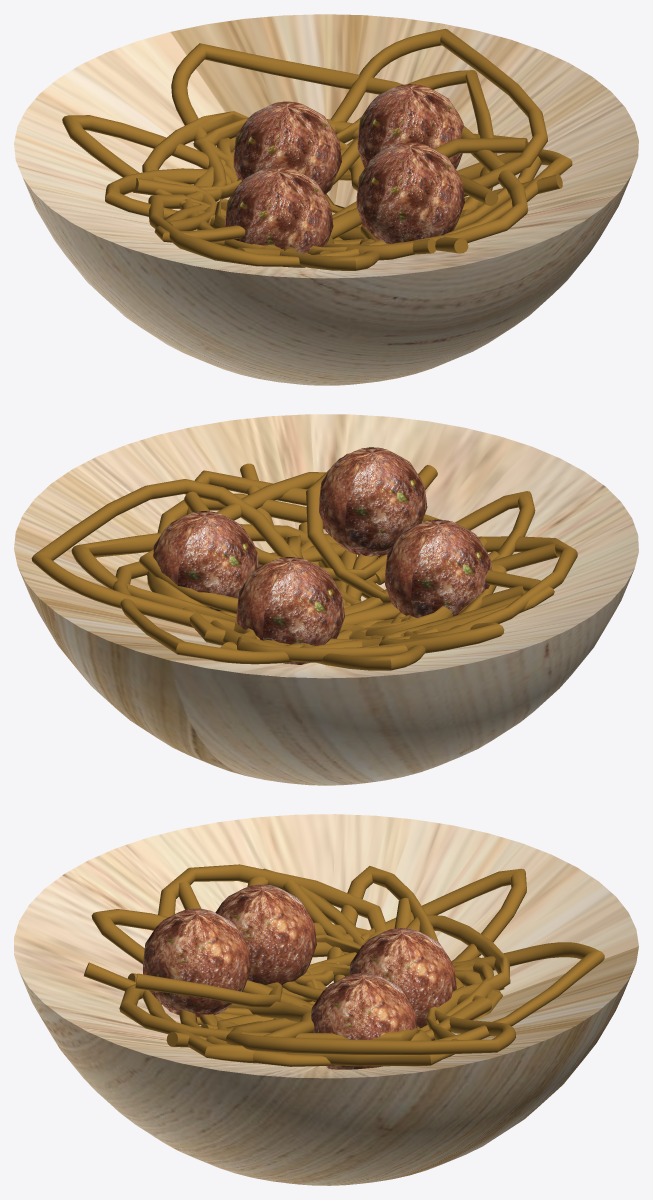
The model's file is Food.fbx.
The picture shows the model from 3 angles, top to bottom: view 1: azimuth 30°, elevation 25°; view 2: azimuth 150°, elevation 25°; view 3: azimuth 270°, elevation 25°; orthographic projection.
Visible parts, largest first — view 1: Sphere001, Sphere003, Sphere005, Line002, Line005, Line008, Sphere002, Sphere004, Line007, Line001, Line004, Line006 (+2 smaller); view 2: Sphere001, Sphere003, Sphere005, Line008, Sphere002, Sphere004, Line004, Line007, Line006, Line002, Line005, Line001 (+3 smaller); view 3: Sphere001, Sphere003, Line002, Line008, Sphere005, Line006, Sphere002, Line004, Line007, Sphere004, Line005, Line001 (+3 smaller).
Boxes of the visible parts, bbox=[...] form: Sphere001: bbox=[14, 14, 638, 385]; Sphere003: bbox=[356, 142, 464, 243]; Sphere005: bbox=[225, 166, 333, 267]; Line002: bbox=[62, 115, 386, 266]; Line005: bbox=[171, 43, 562, 254]; Line008: bbox=[194, 28, 547, 253]; Sphere002: bbox=[233, 101, 341, 194]; Sphere004: bbox=[357, 84, 463, 169]; Line007: bbox=[154, 126, 528, 244]; Line001: bbox=[133, 118, 572, 260]; Line004: bbox=[142, 70, 497, 254]; Line006: bbox=[279, 119, 541, 270]; Sphere001: bbox=[14, 414, 638, 785]; Sphere003: bbox=[319, 447, 427, 556]; Sphere005: bbox=[385, 519, 492, 617]; Line008: bbox=[31, 465, 499, 647]; Sphere002: bbox=[236, 557, 344, 664]; Sphere004: bbox=[153, 511, 259, 610]; Line004: bbox=[71, 524, 520, 662]; Line007: bbox=[139, 453, 554, 638]; Line006: bbox=[157, 491, 535, 645]; Line002: bbox=[301, 533, 577, 670]; Line005: bbox=[112, 463, 496, 664]; Line001: bbox=[186, 470, 525, 662]; Sphere001: bbox=[14, 814, 638, 1185]; Sphere003: bbox=[143, 908, 251, 1017]; Line002: bbox=[158, 864, 526, 1027]; Line008: bbox=[84, 933, 516, 1055]; Sphere005: bbox=[215, 884, 316, 985]; Line006: bbox=[91, 909, 492, 1066]; Sphere002: bbox=[349, 928, 456, 1028]; Line004: bbox=[217, 879, 510, 1066]; Line007: bbox=[119, 868, 417, 1040]; Sphere004: bbox=[311, 973, 417, 1069]; Line005: bbox=[128, 922, 604, 1047]; Line001: bbox=[142, 898, 493, 1063].
Bounding box in the file's own units: 41.03 × 18.19 × 41.01.
3 materials, 2 textured.
